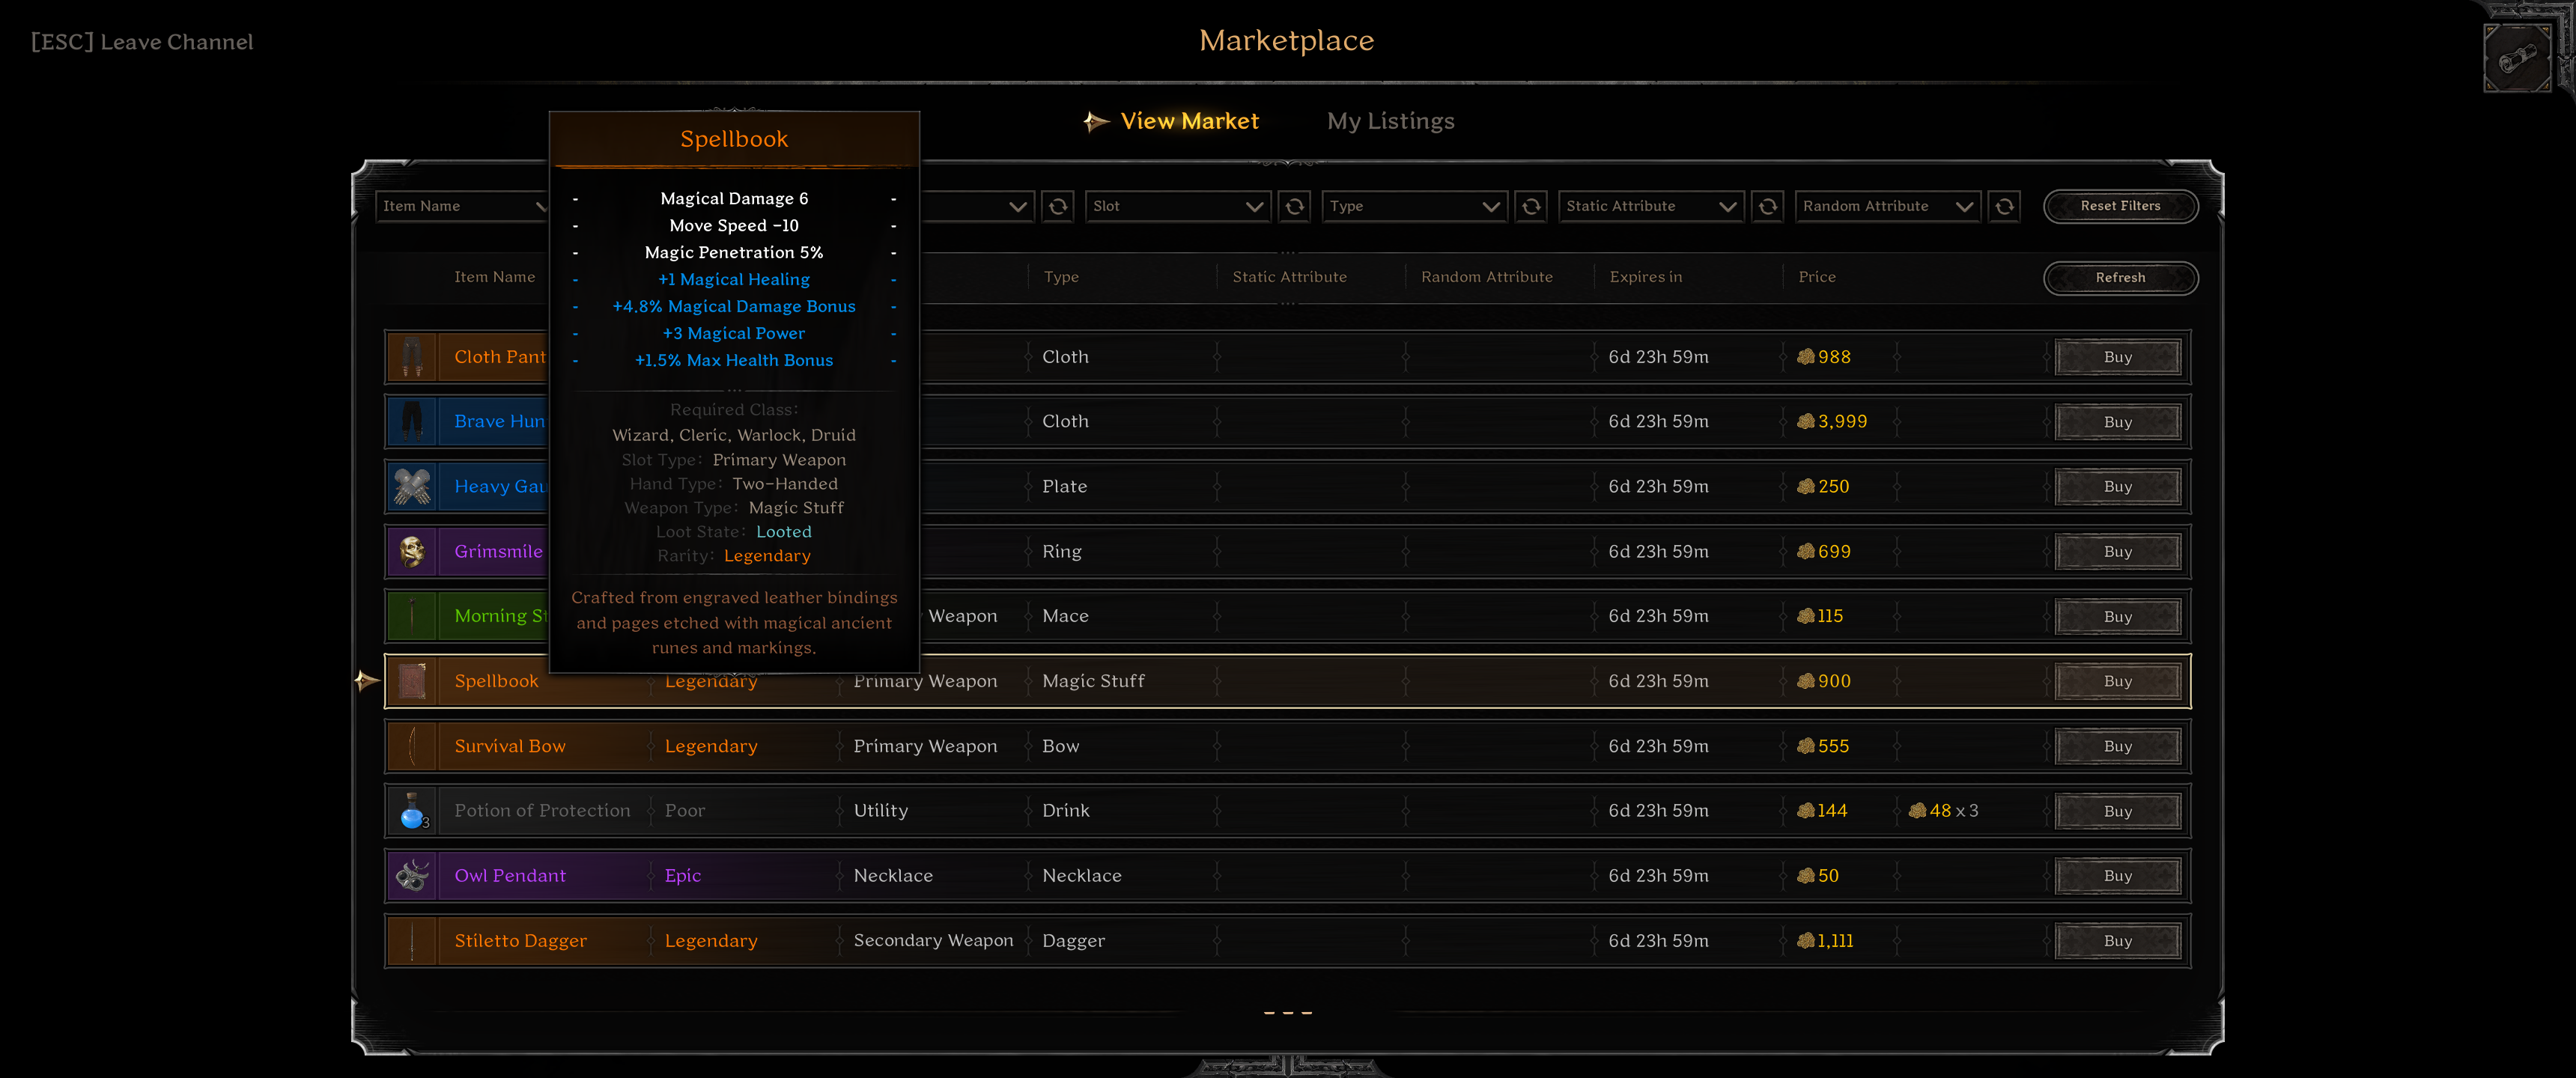Tooltip: (547, 110, 922, 674)
